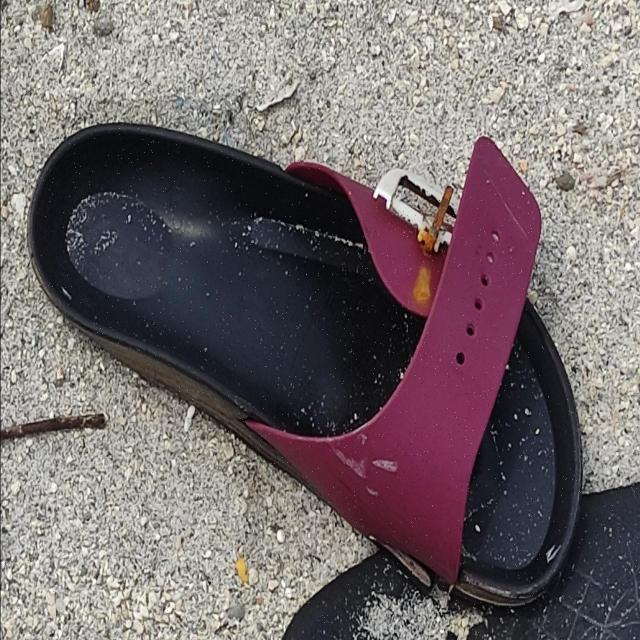rubber_waste: (28, 125, 584, 610)
